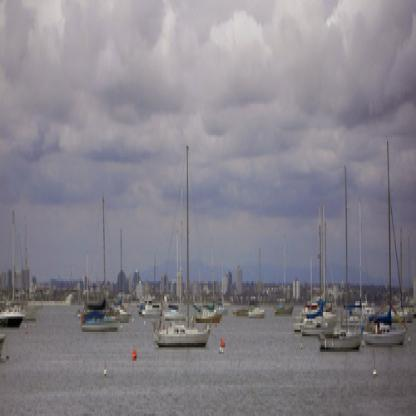boat: (151, 144, 209, 347), (362, 140, 406, 348), (319, 164, 361, 352), (81, 192, 118, 332), (300, 204, 337, 336), (293, 203, 321, 332), (164, 184, 187, 321), (1, 208, 25, 330), (386, 226, 414, 323), (194, 230, 223, 323), (110, 226, 132, 323), (274, 226, 295, 316), (248, 243, 265, 321), (137, 298, 163, 318)
